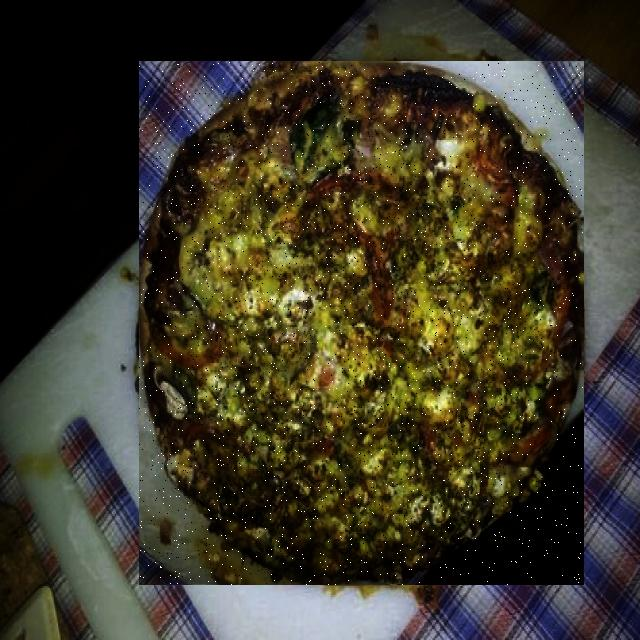Pizza: (140, 62, 583, 585)
